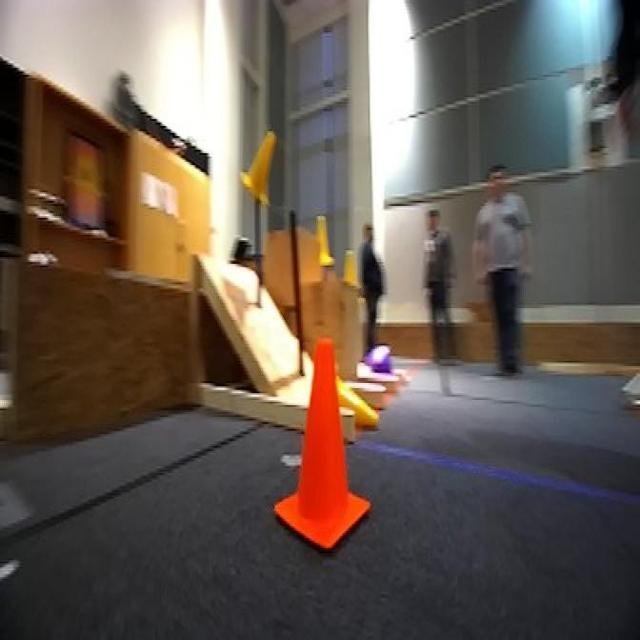frc_cone: (238, 131, 278, 206), (337, 373, 382, 429), (316, 213, 332, 272), (340, 242, 358, 292)
frc_cube: (372, 340, 397, 373)
